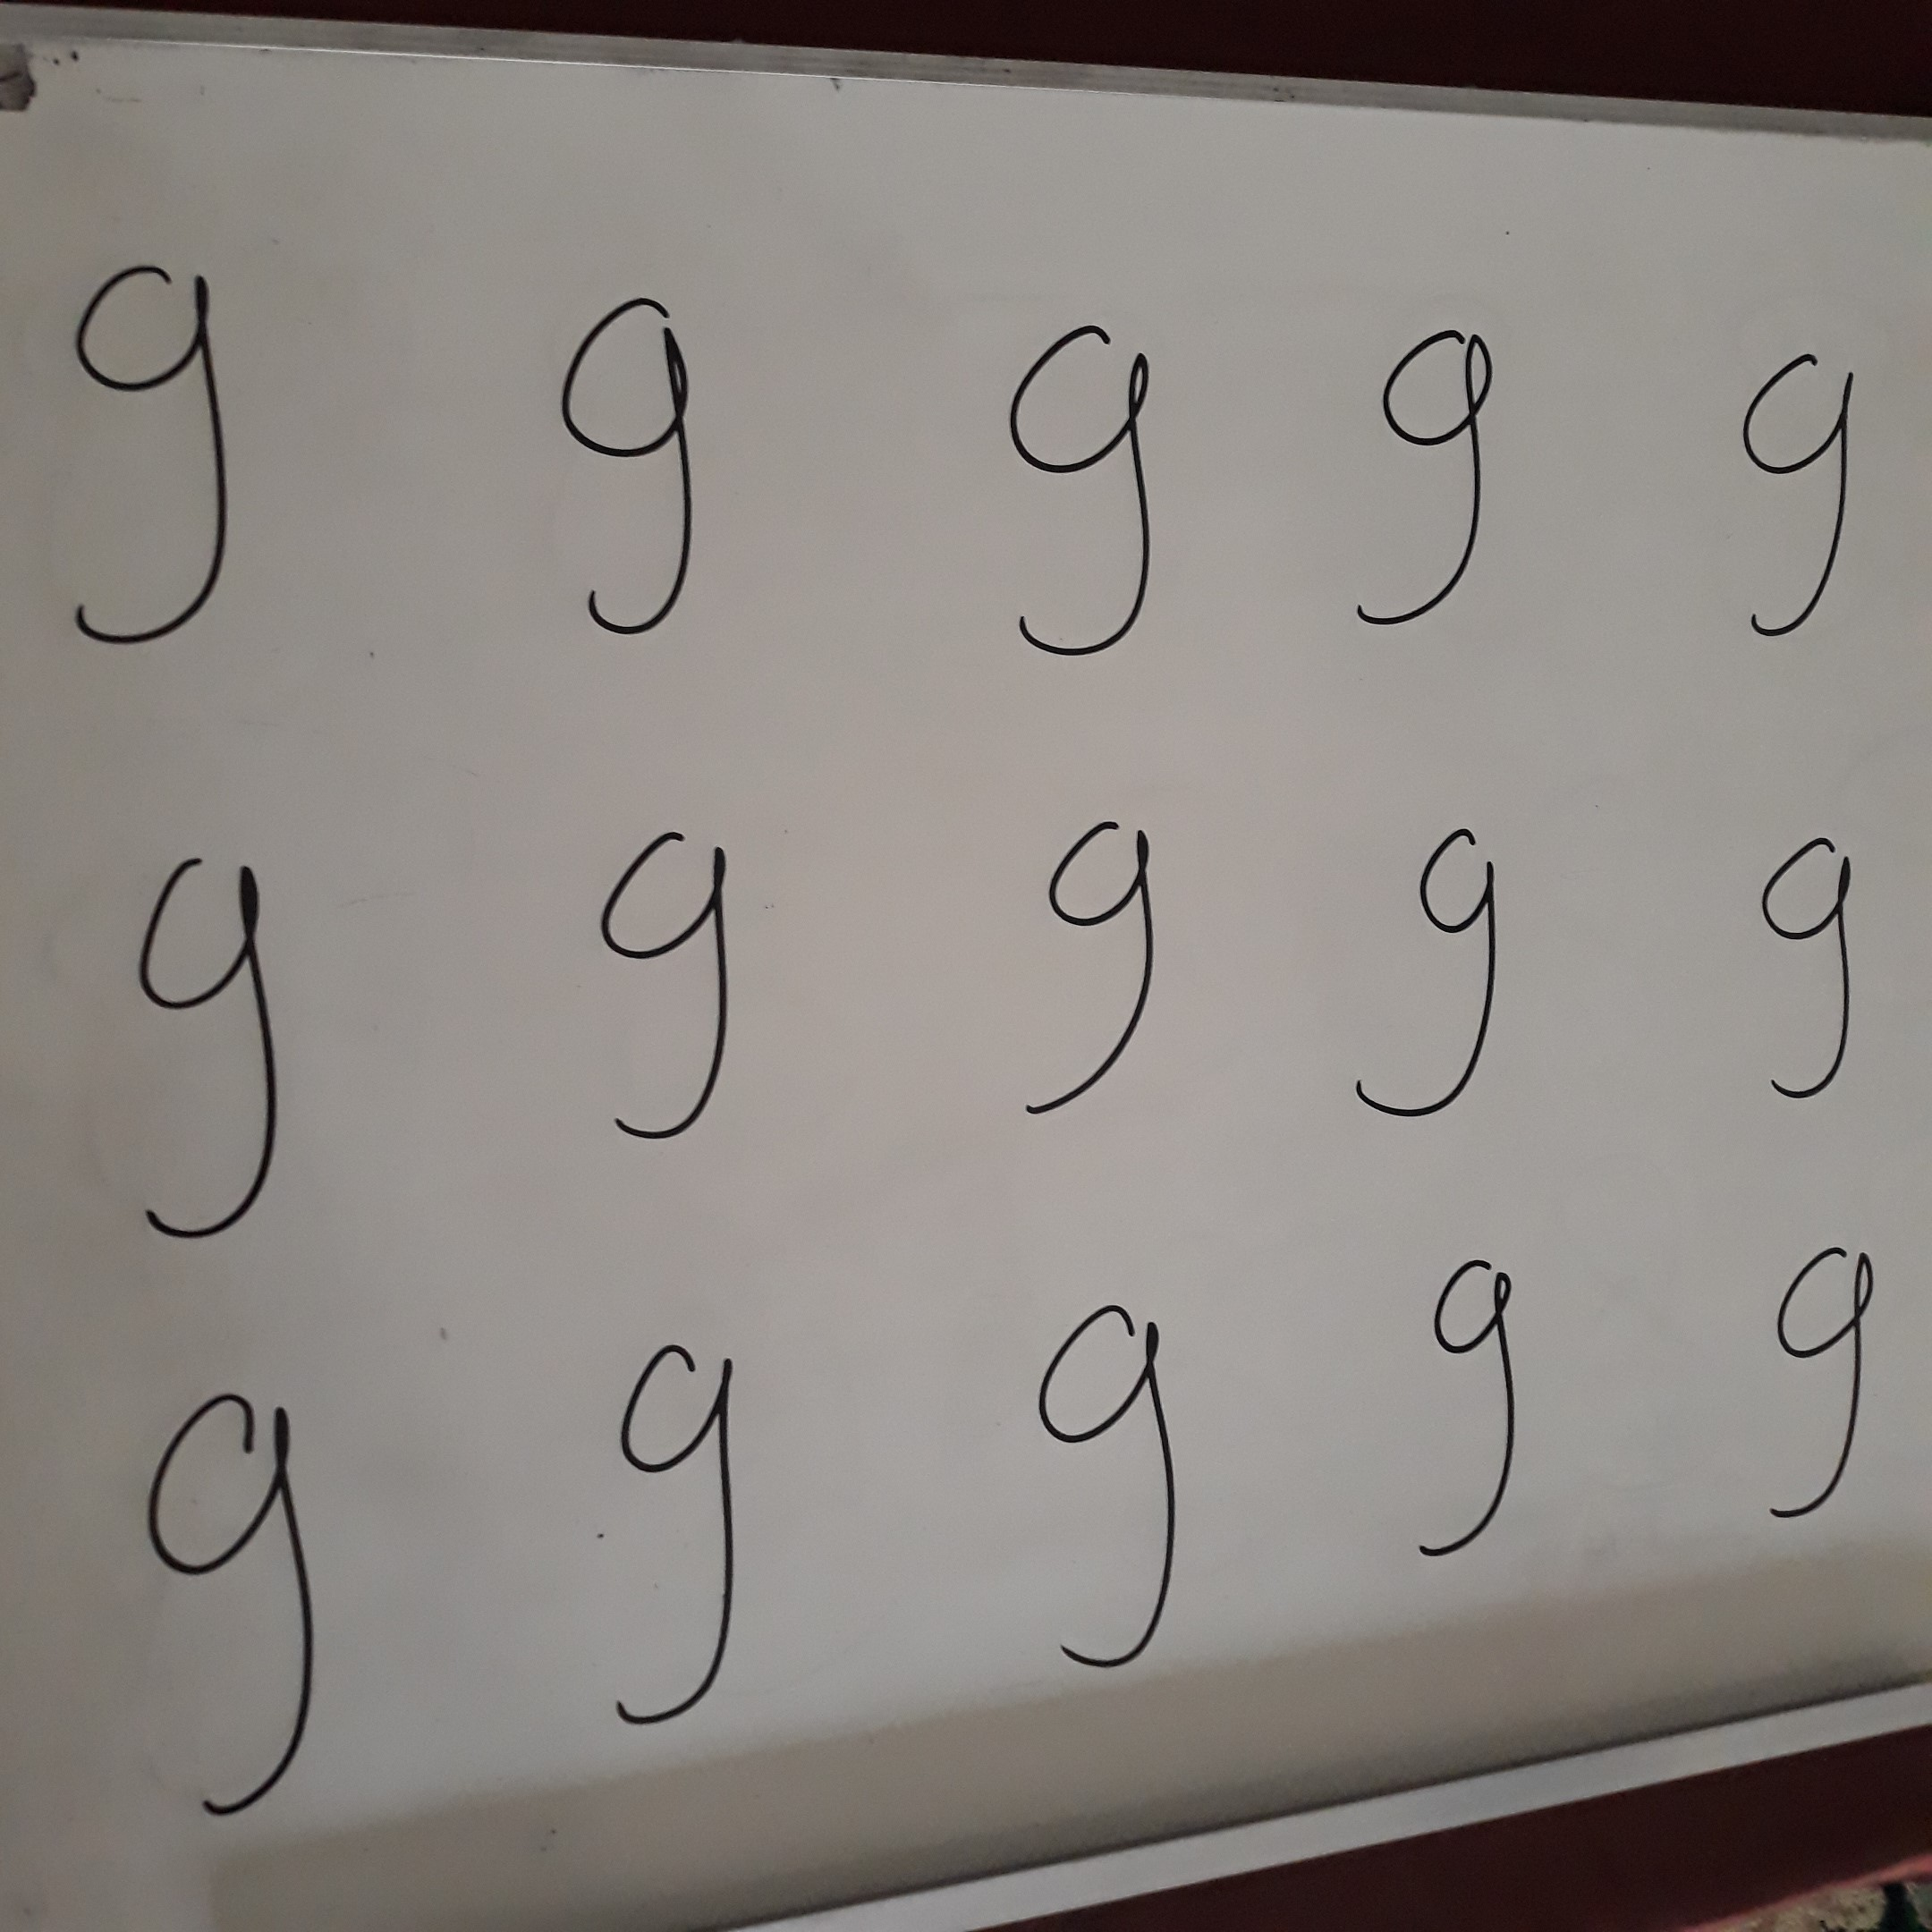num9: (134, 1361, 371, 1833), (41, 250, 282, 665), (114, 821, 323, 1270), (565, 1326, 787, 1745), (1011, 1283, 1219, 1711), (1318, 301, 1570, 653), (977, 292, 1197, 679), (565, 794, 781, 1182), (1327, 806, 1567, 1145), (528, 278, 736, 665), (1689, 329, 1892, 668), (988, 806, 1191, 1145), (1391, 1248, 1562, 1594), (1726, 823, 1886, 1130), (1749, 1224, 1897, 1544)
